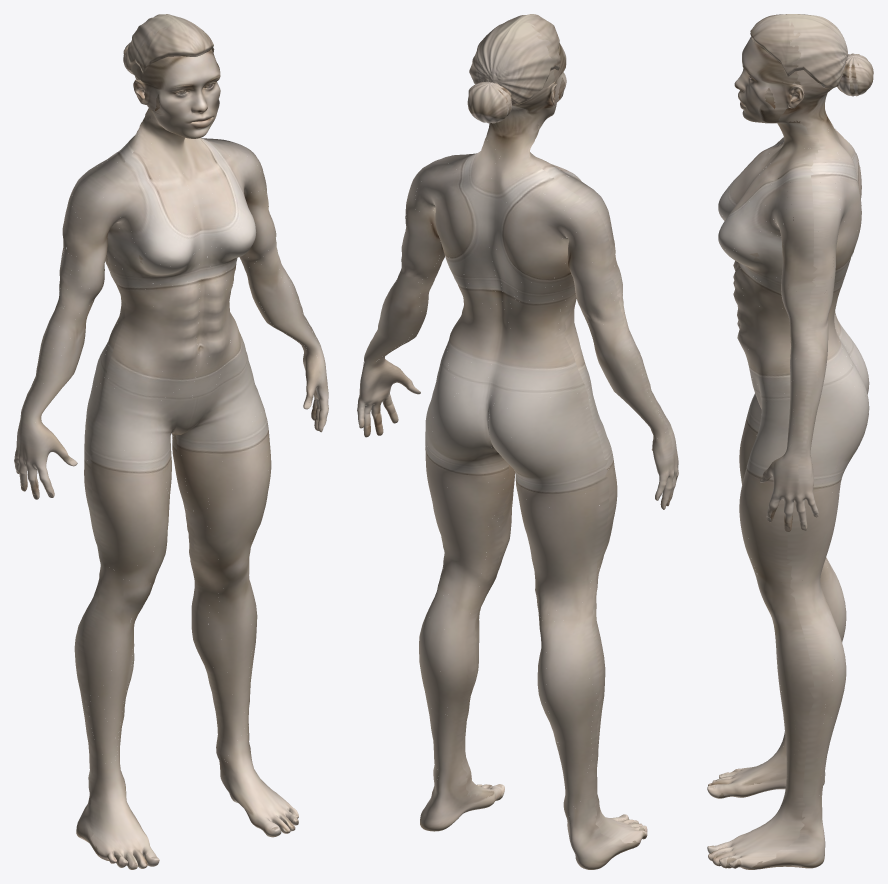
Rendered from female.glb.
3 views of the same model, side by side, from view 1: azimuth 30°, elevation 25°; view 2: azimuth 150°, elevation 25°; view 3: azimuth 270°, elevation 25° (orthographic). The views are drawn at different scales.
Visible parts, largest first — view 1: fitcheck_body, muscle__obliques__R, muscle__vastus_lateralis__R, muscle__rectus_femoris__R, muscle__rectus_femoris__L, muscle__chest_middle__R, muscle__abs__R, portrait_hair, muscle__chest_middle__L, muscle__tibialis_anterior__L, muscle__forearm_flexors__L, muscle__vastus_medialis__L (+21 smaller); view 2: fitcheck_body, portrait_hair, muscle__gluteus_maximus__L, muscle__hamstrings_lateral__R, muscle__lats__R, muscle__hamstrings_medial__L, muscle__gluteus_maximus__R, muscle__gastrocnemius_lateral__R, muscle__gastrocnemius_medial__L, muscle__forearm_extensors__R, muscle__gluteus_medius__R, muscle__forearm_extensors__L (+29 smaller); view 3: fitcheck_body, portrait_hair, muscle__vastus_lateralis__L, muscle__obliques__L, muscle__hamstrings_lateral__L, muscle__chest_middle__L, muscle__chest_lower__L, muscle__gluteus_medius__L, muscle__deltoid_lateral__L, muscle__brachioradialis__L, muscle__gastrocnemius_lateral__L, muscle__soleus__L (+22 smaller).
Part boxes in pixels (x1,y1,x2,y2): fitcheck_body: (14, 49, 328, 869); muscle__obliques__R: (102, 295, 172, 399); muscle__vastus_lateralis__R: (85, 445, 136, 577); muscle__rectus_femoris__R: (126, 431, 165, 573); muscle__rectus_femoris__L: (213, 416, 267, 548); muscle__chest_middle__R: (131, 195, 198, 265); muscle__abs__R: (163, 277, 199, 400); portrait_hair: (125, 14, 214, 73); muscle__chest_middle__L: (199, 172, 256, 250); muscle__tibialis_anterior__L: (215, 587, 252, 759); muscle__forearm_flexors__L: (249, 262, 320, 355); muscle__vastus_medialis__L: (210, 475, 245, 564); fitcheck_body: (357, 43, 678, 869); portrait_hair: (469, 14, 560, 105); muscle__gluteus_maximus__L: (425, 397, 503, 485); muscle__hamstrings_lateral__R: (544, 491, 597, 624); muscle__lats__R: (509, 290, 570, 394); muscle__hamstrings_medial__L: (447, 472, 502, 598); muscle__gluteus_maximus__R: (488, 407, 585, 508); muscle__gastrocnemius_lateral__R: (546, 646, 593, 744); muscle__gastrocnemius_medial__L: (441, 606, 481, 715); muscle__forearm_extensors__R: (589, 322, 665, 437); muscle__gluteus_medius__R: (513, 384, 588, 458); muscle__forearm_extensors__L: (364, 272, 420, 366); fitcheck_body: (707, 36, 862, 869); portrait_hair: (750, 14, 848, 89); muscle__vastus_lateralis__L: (748, 448, 807, 582); muscle__obliques__L: (747, 298, 791, 398); muscle__hamstrings_lateral__L: (800, 493, 839, 613); muscle__chest_middle__L: (718, 183, 769, 249); muscle__chest_lower__L: (721, 230, 782, 278); muscle__gluteus_medius__L: (817, 384, 868, 437); muscle__deltoid_lateral__L: (791, 167, 819, 239); muscle__brachioradialis__L: (793, 320, 820, 398); muscle__gastrocnemius_lateral__L: (820, 633, 846, 730); muscle__soleus__L: (786, 714, 832, 801).
Bounding box in the file's own units: 0.6682 × 1.69 × 0.3123.
Materials: 1 (1 with a texture image).
